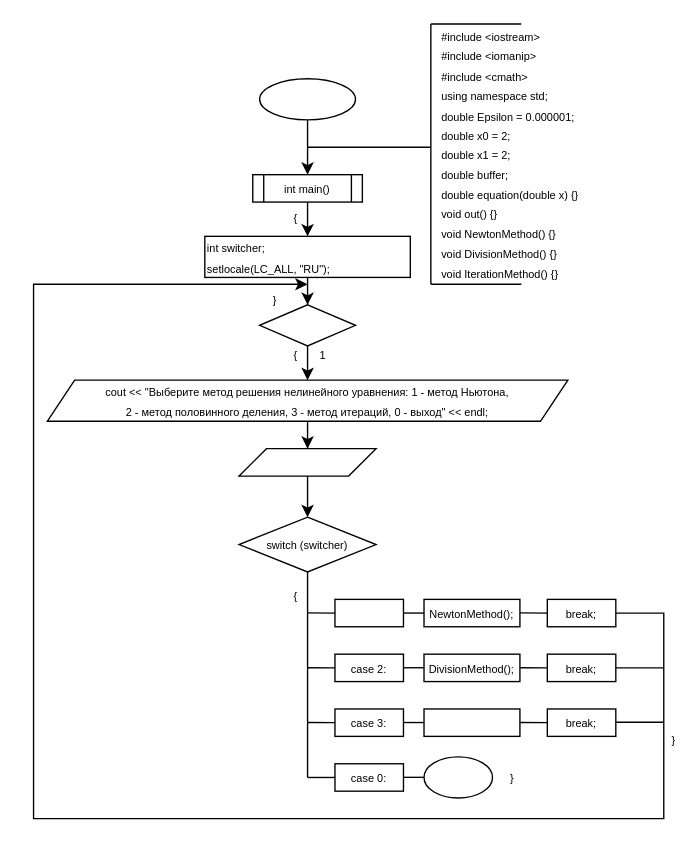
Image size: 699x854. Some labels were removed from this diagram. The shapes that lost their labels are listed below. From the top down, each one's centre as x and y in pixels, then its label:
the point at 307,98: Начало
the point at 307,324: while (true)
the point at 307,461: cin >> switcher;
the point at 368,612: case 1:
the point at 471,722: IterationMethod();
the point at 458,777: return 0;
